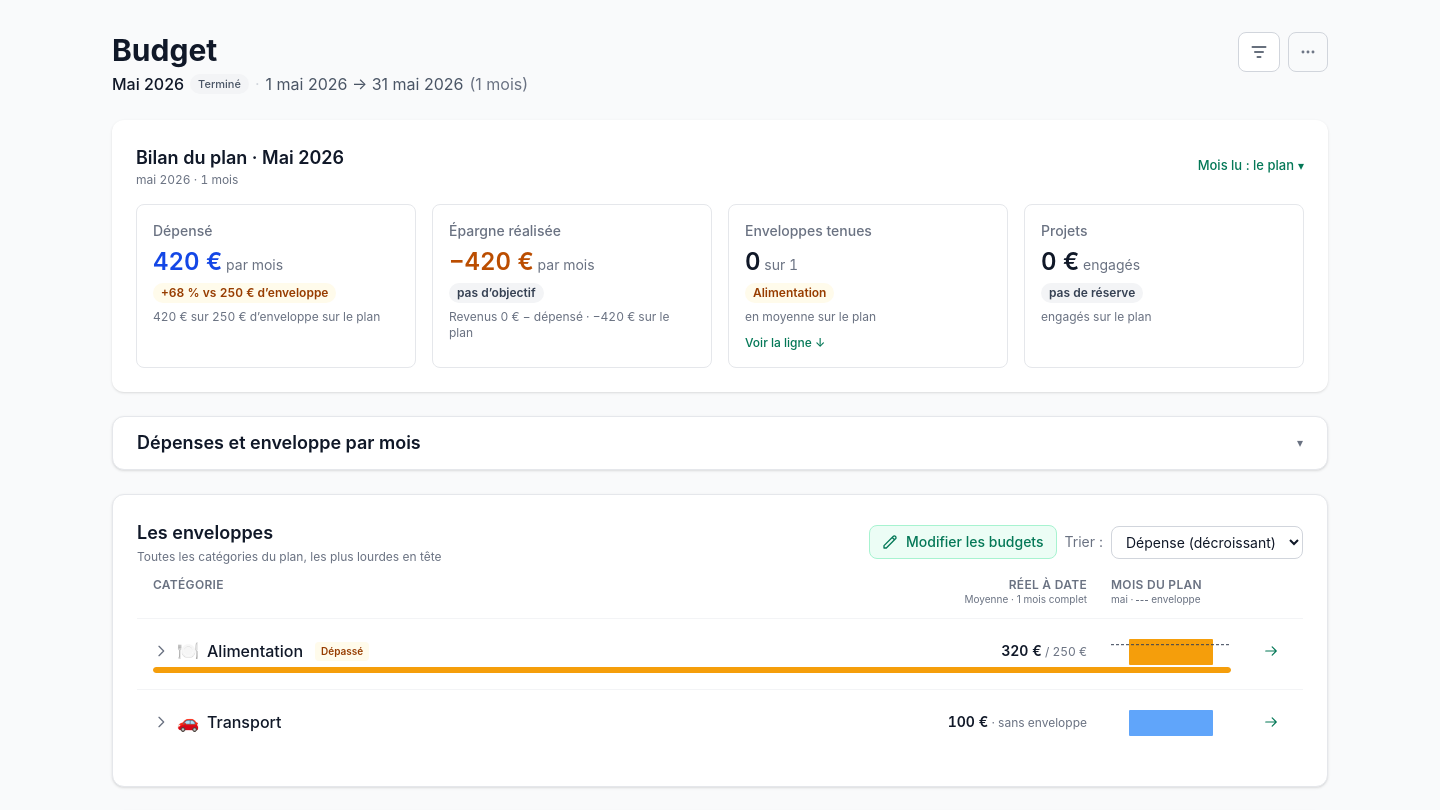
Test: BudgetPage › on a phone (« Budget · suivi sur téléphone ») › puts Historique and Nouveau budget behind « … », next to « Lecture » as an icon
Click the button with test id "header-more-button": (1308, 52) [1288,32,1328,72]
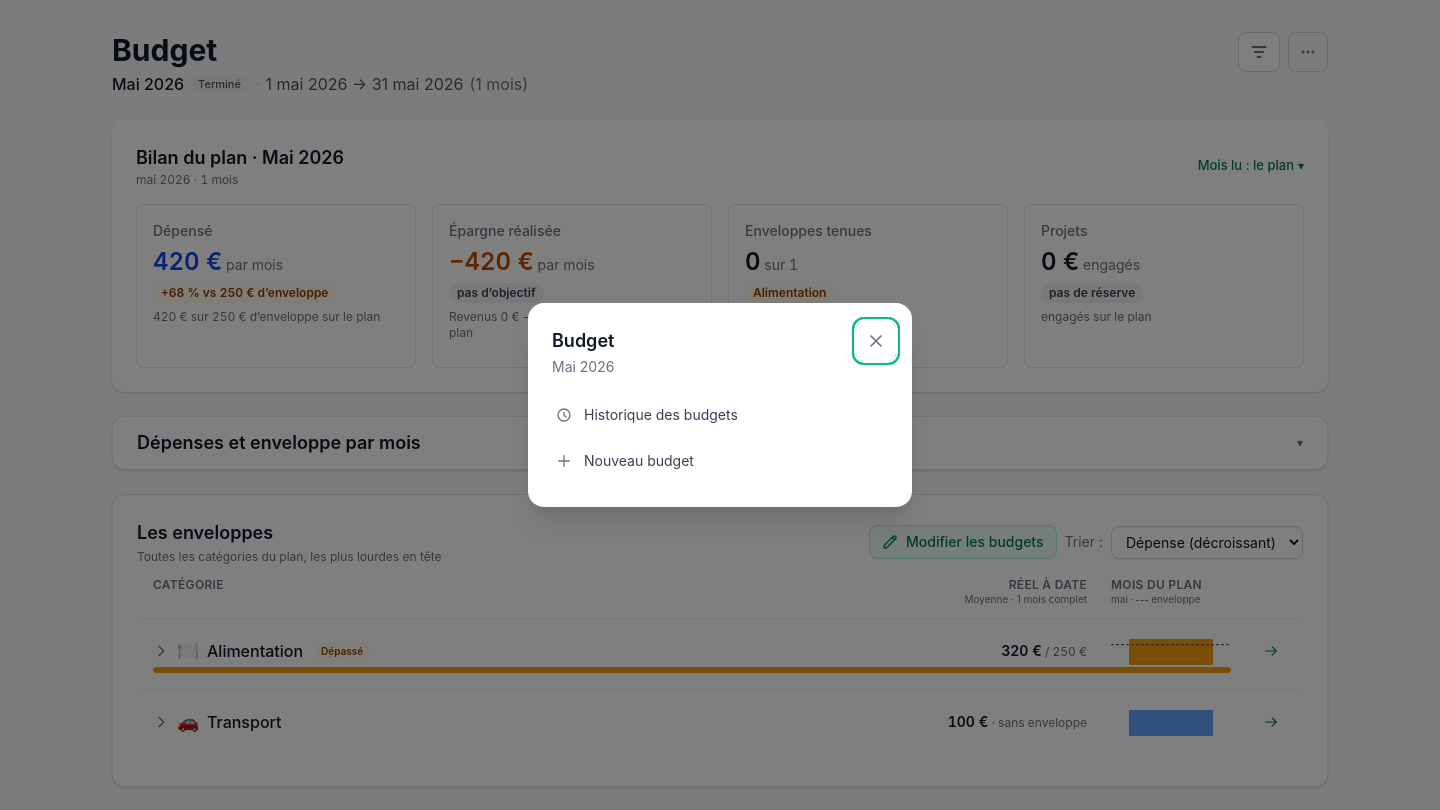
expect the dialog with test id "header-more-sheet" is shown: met, box [528,303,912,507]
Click the menu item "Nouveau budget": (639, 460) [544,439,896,483]
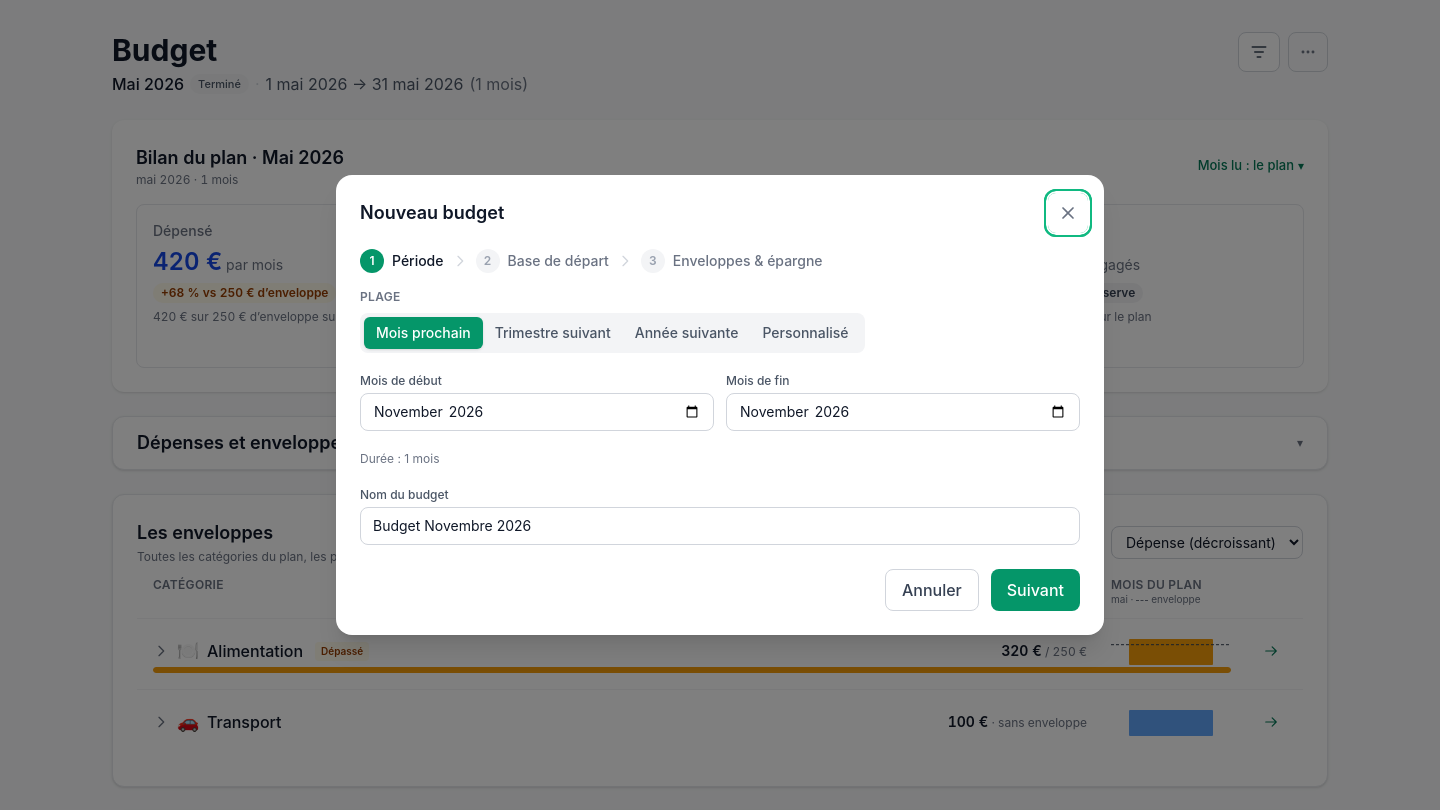
expect the dialog with test id "header-more-sheet" is gone: met
expect the dialog with test id "new-budget-plan-modal" is shown: met, box [336,175,1104,635]
